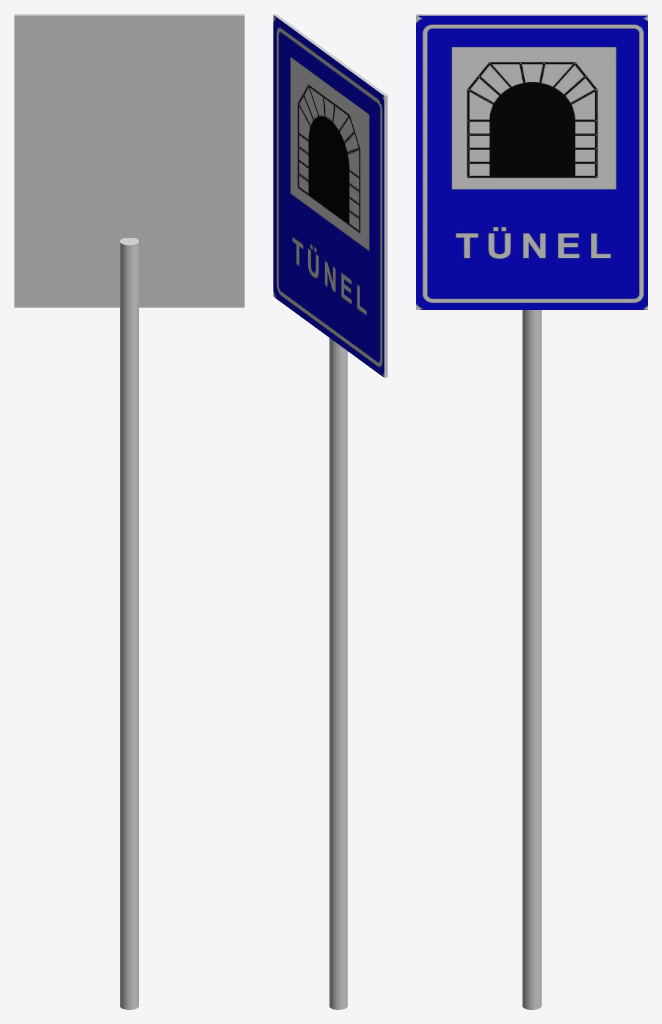
Rendered from tunellevhasi.dae.
3 views of the same model, side by side, from view 1: azimuth 90°, elevation 25°; view 2: azimuth 210°, elevation 25°; view 3: azimuth 270°, elevation 25° (orthographic). The views are drawn at different scales.
Visible parts, largest first — view 1: Cube, Cylinder; view 2: Cube, Cylinder; view 3: Cube, Cylinder.
Part boxes in pixels (x1,y1,x2,y2): Cube: (14, 14, 244, 307); Cylinder: (120, 238, 138, 1009); Cube: (273, 14, 387, 377); Cylinder: (329, 338, 347, 1009); Cube: (416, 14, 647, 309); Cylinder: (522, 310, 541, 1009).
Bounding box in the file's own units: 0.055 × 0.6 × 2.84.
Materials: 3 (1 with a texture image).
